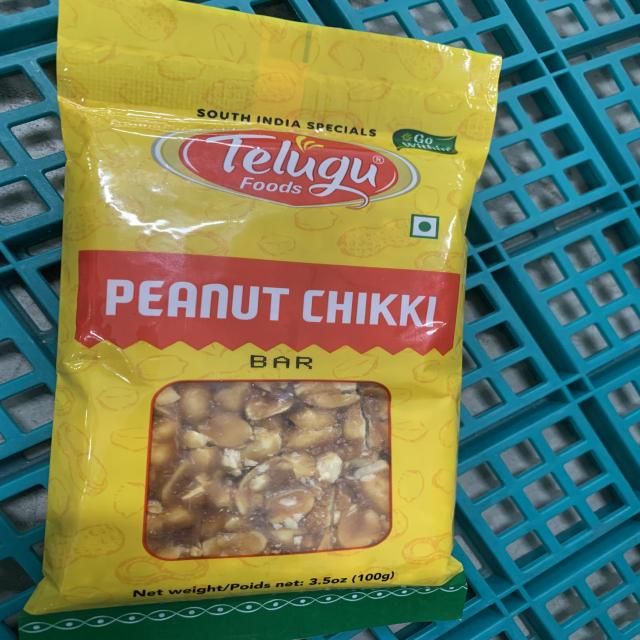object_name: (68, 6, 451, 614)
